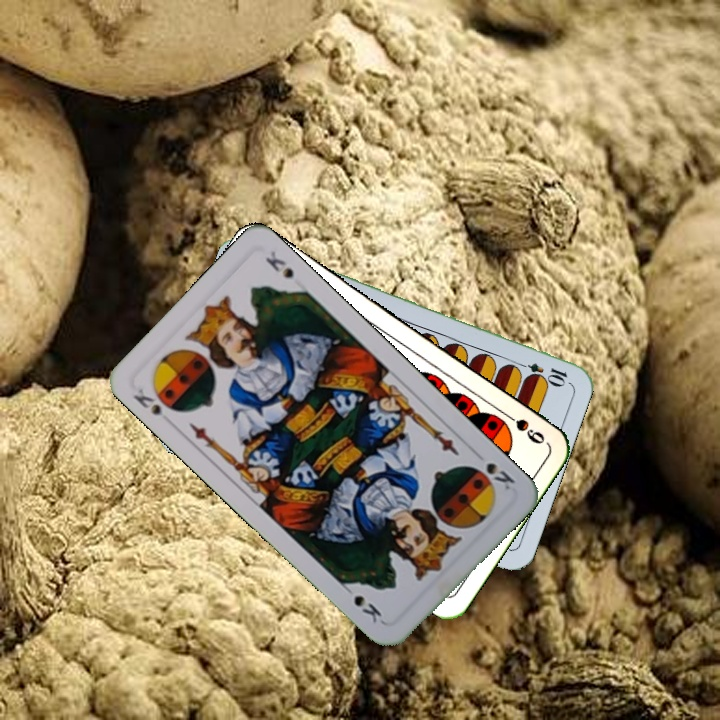E10: (511, 357, 570, 387)
S9: (496, 406, 547, 447)
SK: (129, 381, 180, 428), (482, 458, 518, 493)
